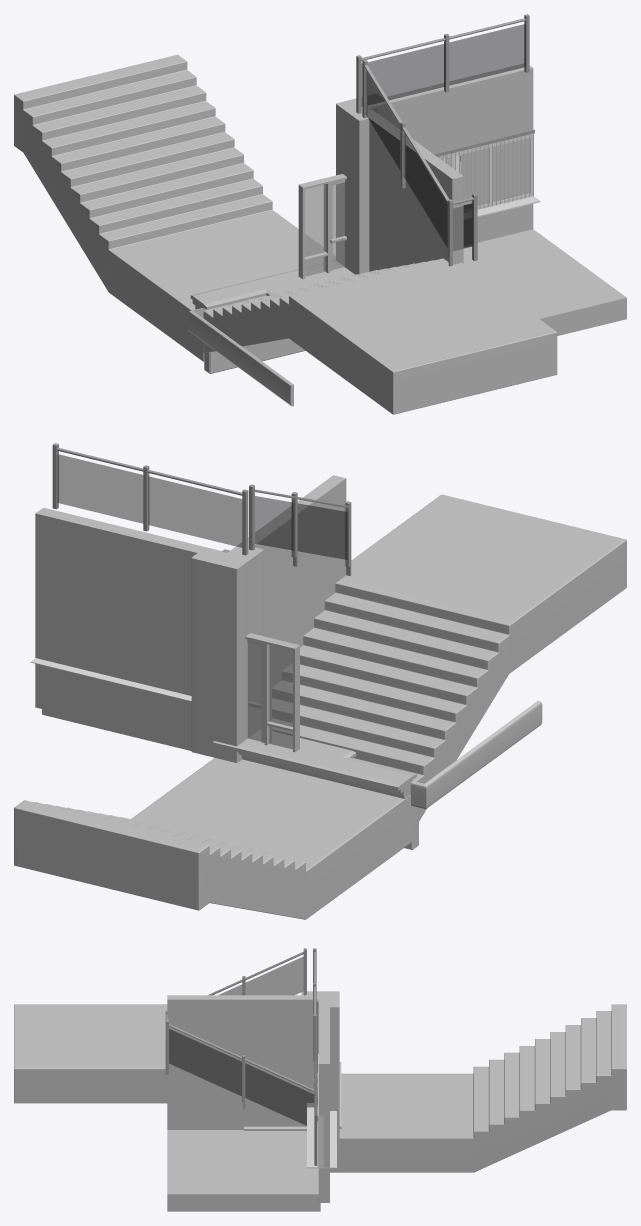
File: ModularWalls.fbx
3 views of the same model, one above another, from view 1: azimuth 30°, elevation 25°; view 2: azimuth 150°, elevation 25°; view 3: azimuth 270°, elevation 25° (orthographic). The views are drawn at different scales.
Parts seen in each view (by area): view 1: StairsUpper, StairsLower, StairRailings, OutsideWallCorner, Ceiling4M, InteriorPaintedWall, InteriorPaintWallWindow, CornerBrick, InteriorPaintWallMainDoor, InteriorPaintWallSingleDoor, MainDoorFrame, OutsideTrimCorner (+11 smaller); view 2: StairsLower, StairsUpper, OutsideWall, StairRailings, OutsideWallCorner, CornerBrick, OutsideWallDoubleDoor, OutsideWallSingleWindow, OutsideWallSingleDoor, OutsideWallMainDoor, MainDoorFrame, OutsideTrimCorner (+5 smaller); view 3: StairsUpper, OutsideWallCorner, StairsLower, Ceiling4M, StairRailings, OutsideWall, PolishedConcrete4M, CornerBrick, DoubleWindow, InteriorPaintWallSingleDoor, SingleWindow, ConcreteRoof4M (+1 smaller).
Boxes of the visible parts, x1,y1,x2,y2 form: StairsUpper: [14, 54, 335, 361]; StairsLower: [203, 258, 557, 414]; StairRailings: [356, 14, 529, 266]; OutsideWallCorner: [368, 64, 524, 271]; Ceiling4M: [463, 229, 626, 326]; InteriorPaintedWall: [378, 70, 533, 245]; InteriorPaintWallWindow: [377, 72, 533, 238]; CornerBrick: [336, 94, 381, 274]; InteriorPaintWallMainDoor: [378, 68, 532, 230]; InteriorPaintWallSingleDoor: [368, 66, 533, 242]; MainDoorFrame: [298, 174, 346, 279]; OutsideTrimCorner: [188, 296, 293, 406]; StairsLower: [272, 494, 626, 830]; StairsUpper: [14, 758, 412, 919]; OutsideWall: [35, 509, 227, 744]; StairRailings: [52, 443, 351, 575]; OutsideWallCorner: [35, 475, 346, 743]; CornerBrick: [191, 547, 263, 762]; OutsideWallDoubleDoor: [35, 514, 195, 745]; OutsideWallSingleWindow: [35, 515, 195, 743]; OutsideWallSingleDoor: [35, 514, 195, 745]; OutsideWallMainDoor: [35, 517, 192, 693]; MainDoorFrame: [245, 633, 299, 752]; OutsideTrimCorner: [410, 700, 542, 809]; StairsUpper: [330, 1004, 626, 1172]; OutsideWallCorner: [167, 995, 329, 1129]; StairsLower: [14, 1004, 167, 1103]; Ceiling4M: [167, 1130, 319, 1202]; StairRailings: [165, 948, 317, 1125]; OutsideWall: [319, 1000, 329, 1202]; PolishedConcrete4M: [167, 1202, 320, 1211]; CornerBrick: [301, 991, 339, 1146]; DoubleWindow: [307, 1054, 336, 1168]; InteriorPaintWallSingleDoor: [318, 999, 322, 1202]; SingleWindow: [307, 1068, 336, 1151]; ConcreteRoof4M: [167, 1203, 320, 1211].
Size of the model in its own units: 833 by 651 by 1600.
